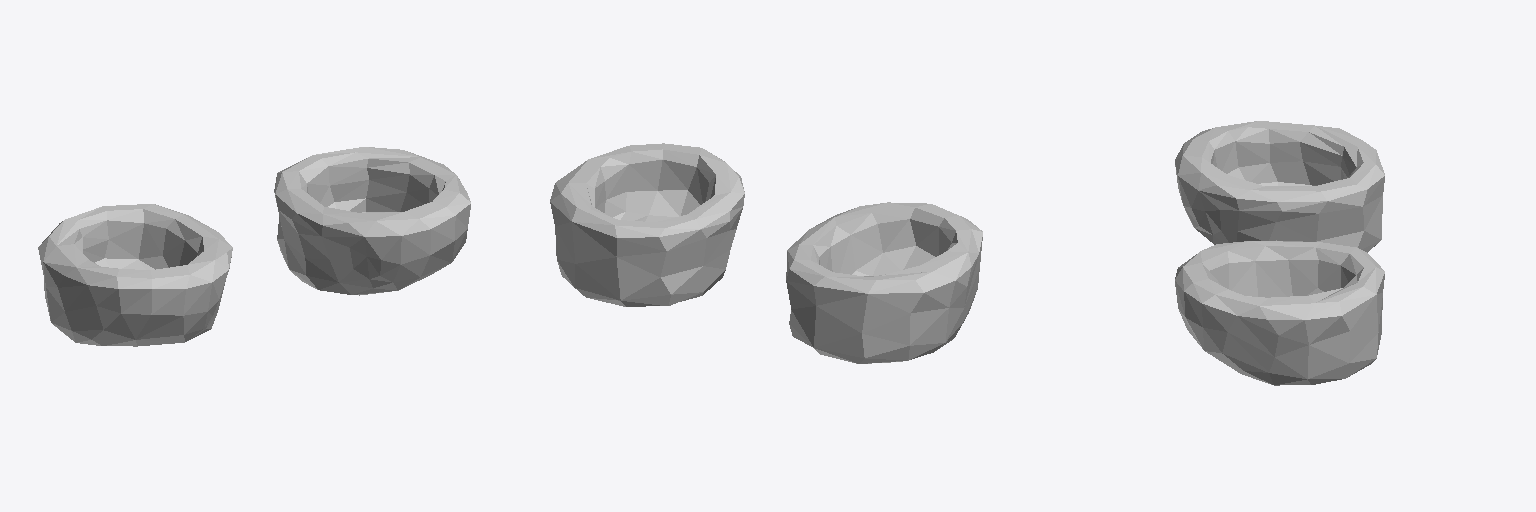
Rendered from Knee cuffs.OBJ.
3 renders of one model, left to right at view 1: azimuth 30°, elevation 25°; view 2: azimuth 150°, elevation 25°; view 3: azimuth 270°, elevation 25°, orthographic.
Visible parts, largest first — view 1: Group39341; view 2: Group39341; view 3: Group39341.
Part boxes in pixels (bbox=[...]): Group39341: bbox=[38, 147, 470, 346]; Group39341: bbox=[550, 143, 982, 363]; Group39341: bbox=[1175, 121, 1384, 385].
Size of the model in its own units: 54.02 by 11.9 by 24.6.